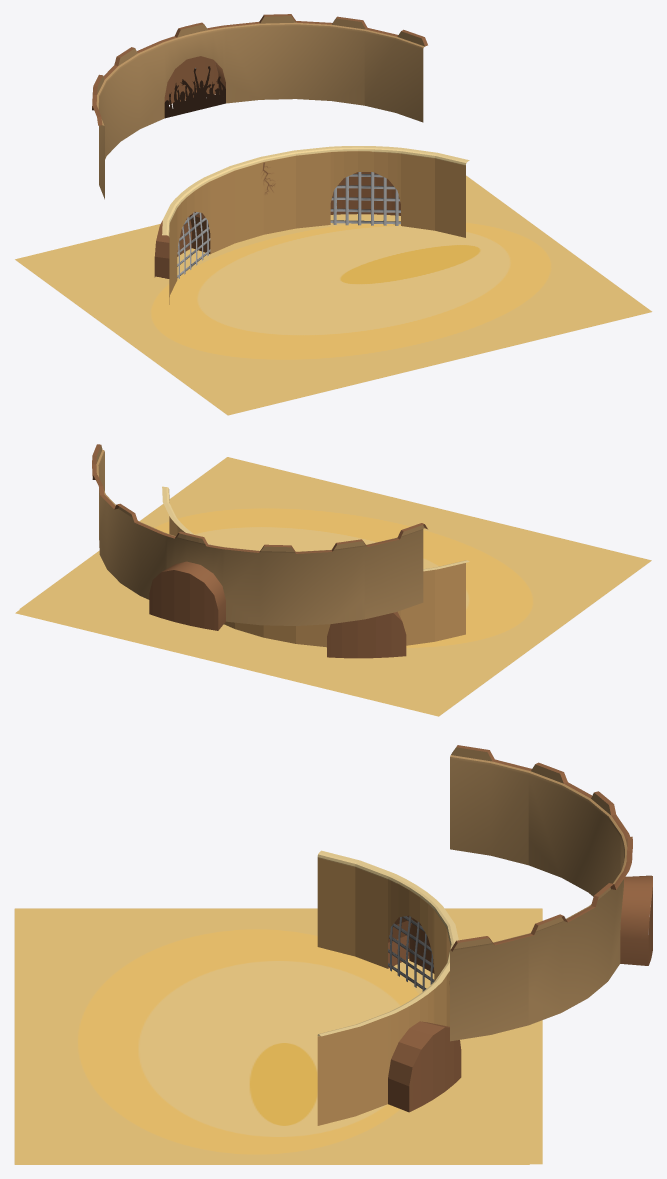
Rendered from Arena.fbx.
3 renders of one model, top to bottom at view 1: azimuth 30°, elevation 25°; view 2: azimuth 150°, elevation 25°; view 3: azimuth 270°, elevation 25°, orthographic. The views are drawn at different scales.
Visible parts, largest first — view 1: Plane001; view 2: Plane001; view 3: Plane001.
Boxes of the visible parts, x1,y1,x2,y2 form: Plane001: [15, 14, 652, 415]; Plane001: [15, 444, 651, 716]; Plane001: [14, 745, 652, 1164].
Bounding box in the file's own units: 2369 × 828 × 2491.
